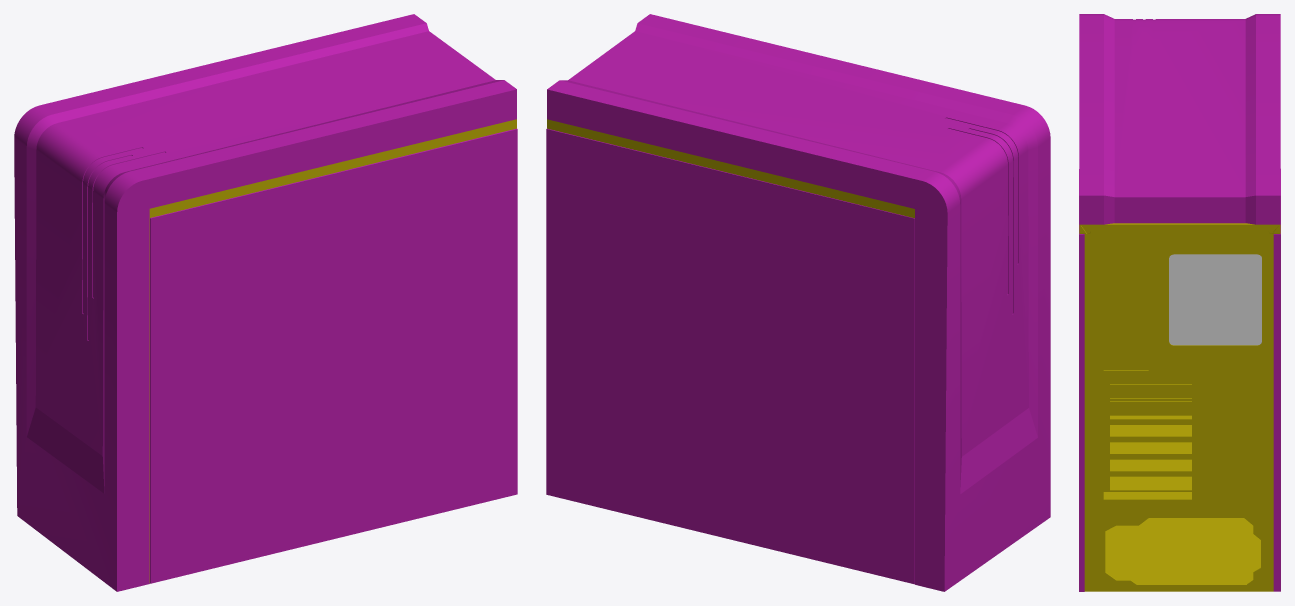
File: pc_case_b_cover.fbx
The picture shows the model from 3 angles, left to right: view 1: azimuth 30°, elevation 25°; view 2: azimuth 150°, elevation 25°; view 3: azimuth 270°, elevation 25°; orthographic projection. The views are drawn at different scales.
Visible parts, largest first — view 1: pc_case_b_cover, pc_case_b_body; view 2: pc_case_b_cover_door, pc_case_b_cover, pc_case_b_body; view 3: pc_case_b_body, pc_case_b_cover, pc_case_b_wire, pc_case_b_cover_door.
Part boxes in pixels (box(x1,y1,x2,y2)): pc_case_b_cover: box(14, 14, 517, 591); pc_case_b_body: box(149, 119, 516, 582); pc_case_b_cover_door: box(546, 128, 914, 584); pc_case_b_cover: box(547, 14, 1050, 591); pc_case_b_body: box(547, 119, 914, 218); pc_case_b_body: box(1079, 223, 1280, 591); pc_case_b_cover: box(1079, 14, 1280, 591); pc_case_b_wire: box(1169, 254, 1261, 345); pc_case_b_cover_door: box(1273, 169, 1280, 591).
Size of the model in its own units: 49.16 by 47.5 by 21.94.
